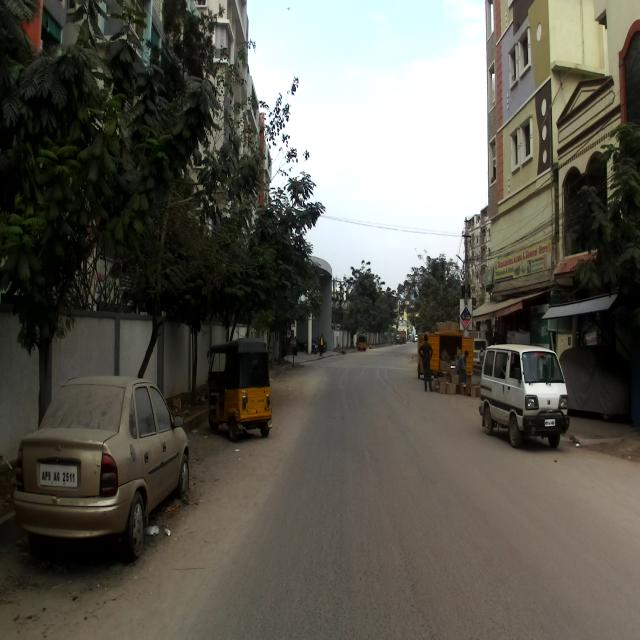auto ahead at: (200, 340, 276, 448)
car ahead at: (15, 380, 191, 564), (480, 337, 570, 457)
